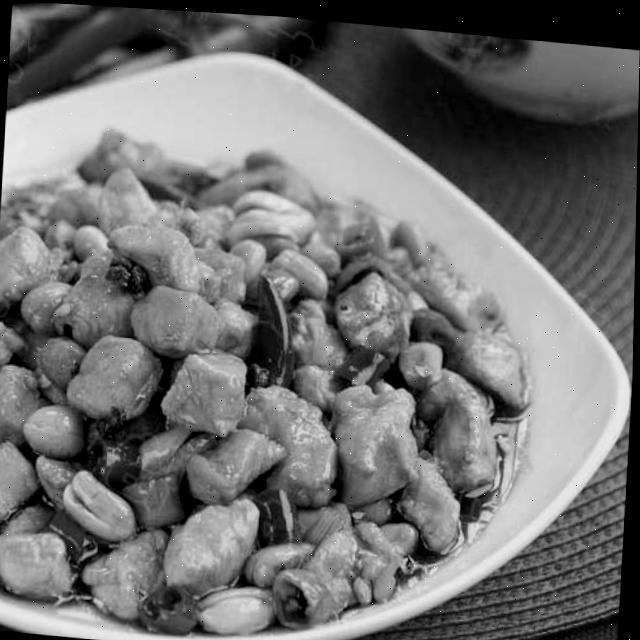鸡肉料理 含炸鸡: (0, 67, 551, 640)
